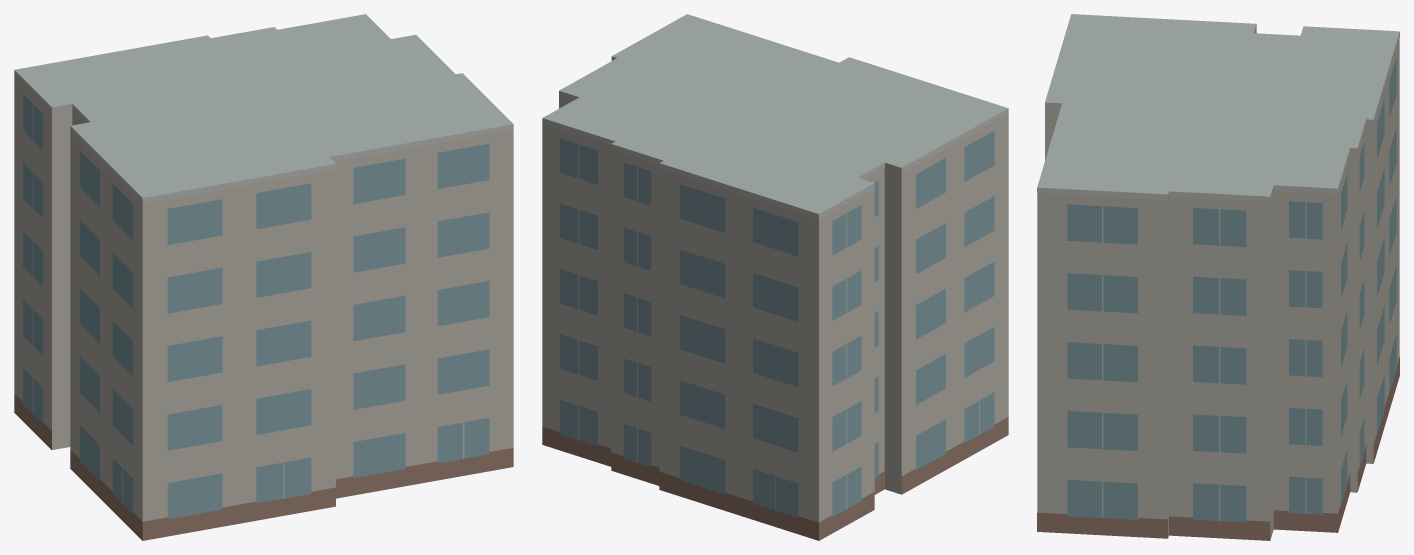
Rendered from survey-upis-32620836.glb.
3 views of the same model, side by side, from view 1: azimuth 30°, elevation 25°; view 2: azimuth 150°, elevation 25°; view 3: azimuth 270°, elevation 25° (orthographic). The views are drawn at different scales.
Visible parts, largest first — view 1: survey-upis-32620836.tmp; view 2: survey-upis-32620836.tmp; view 3: survey-upis-32620836.tmp.
Part boxes in pixels (bbox=[...]): survey-upis-32620836.tmp: bbox=[14, 14, 513, 540]; survey-upis-32620836.tmp: bbox=[542, 14, 1008, 540]; survey-upis-32620836.tmp: bbox=[1037, 14, 1399, 540].
Bounding box in the file's own units: 17.42 × 15.3 × 14.62.
